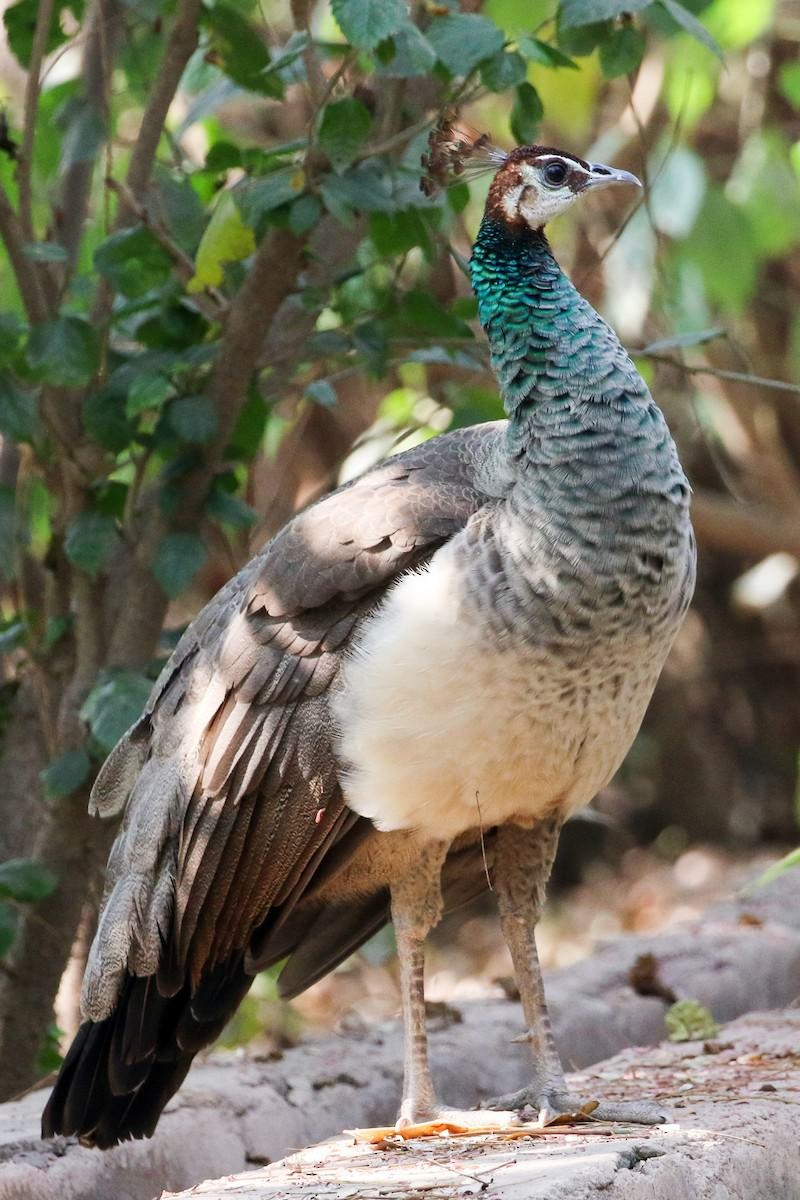peacock: (39, 117, 690, 1040)
